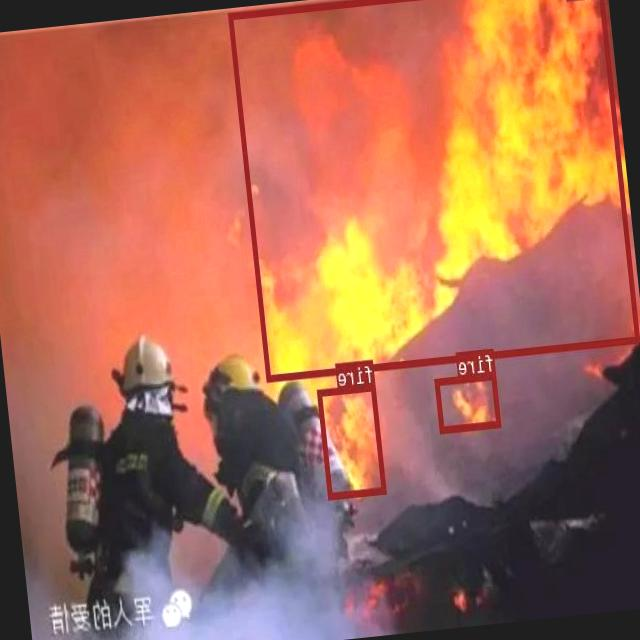fire: (229, 0, 640, 379), (318, 382, 387, 498), (436, 372, 502, 431)
